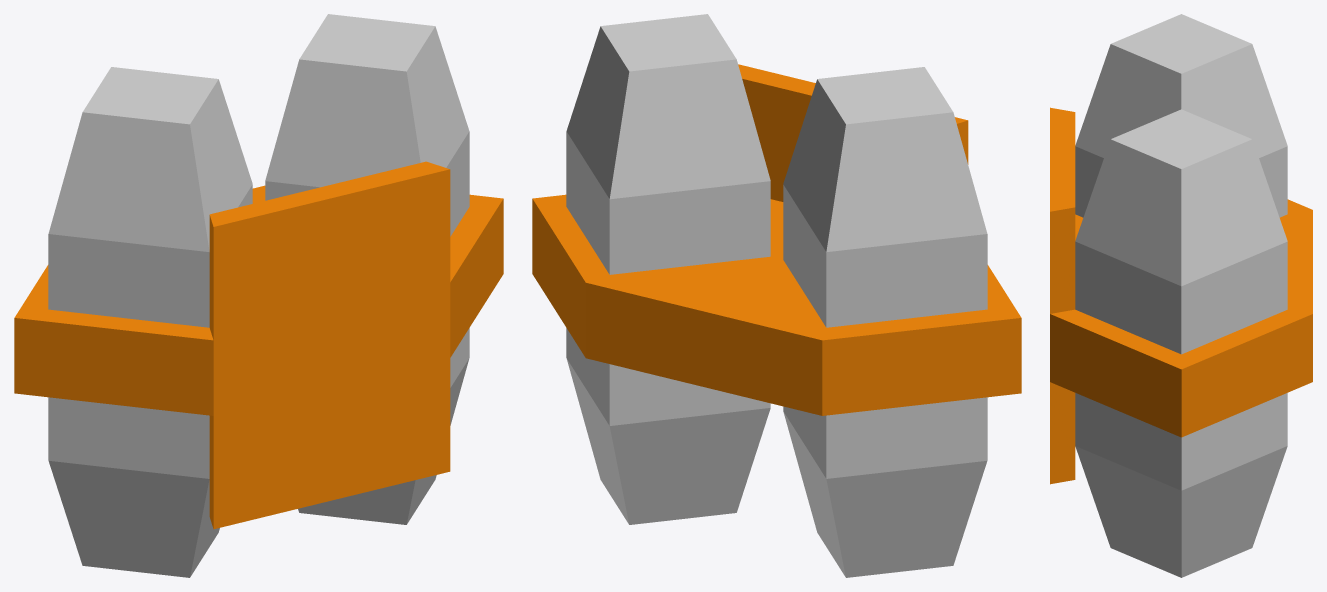
File: fuel.fbx
3 views of the same model, side by side, from view 1: azimuth 30°, elevation 25°; view 2: azimuth 150°, elevation 25°; view 3: azimuth 270°, elevation 25° (orthographic). The views are drawn at different scales.
Visible parts, largest first — view 1: fuel; view 2: fuel; view 3: fuel.
Part boxes in pixels (left/top/right/bottom): fuel: left=14, top=14, right=503, bottom=577; fuel: left=532, top=14, right=1021, bottom=577; fuel: left=1050, top=14, right=1312, bottom=577.
Bounding box in the file's own units: 102 × 90 × 52.43.
Materials: 1 (1 with a texture image).
